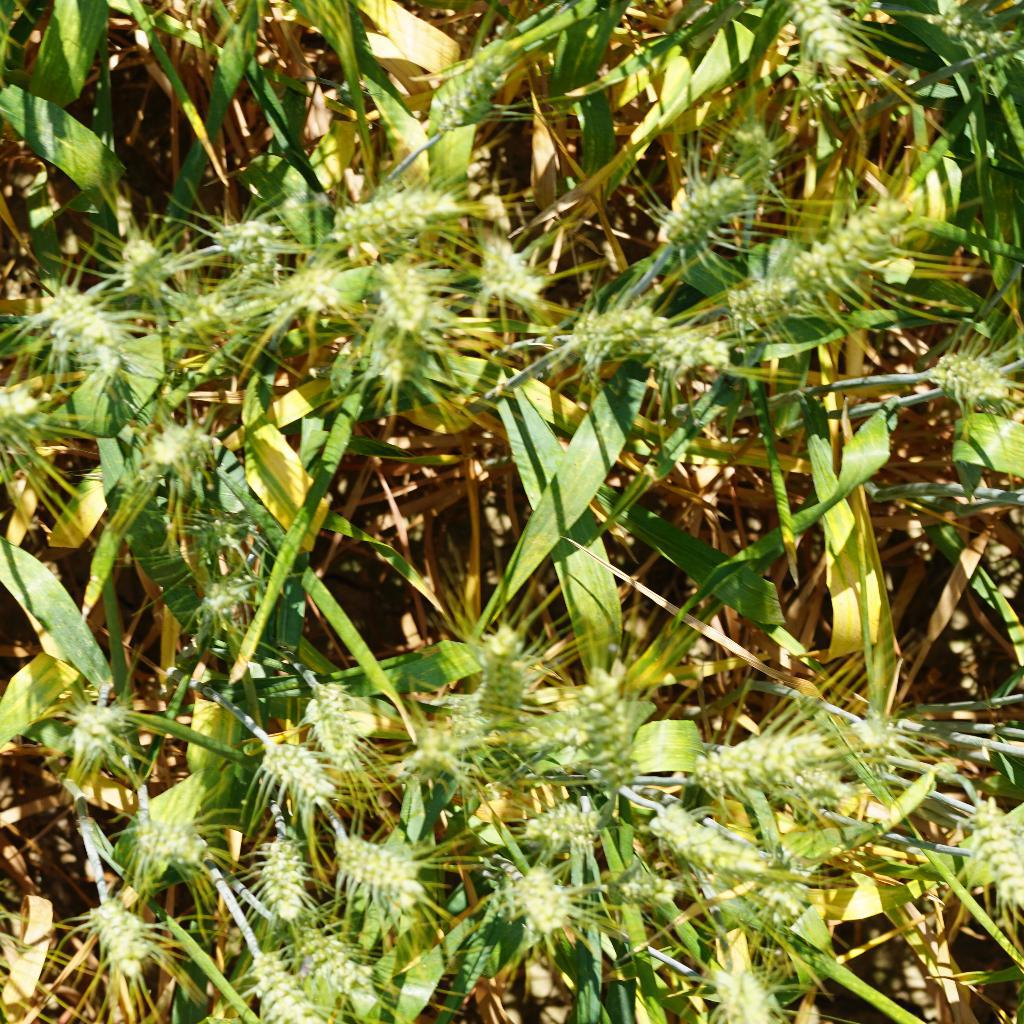0-0: (757, 195, 916, 281), (680, 713, 834, 793), (321, 823, 426, 922), (309, 180, 463, 247), (574, 665, 645, 799), (32, 279, 134, 372), (649, 798, 762, 881), (654, 157, 747, 253), (423, 47, 512, 144), (444, 230, 544, 313), (284, 912, 370, 1005), (624, 313, 727, 389), (920, 337, 1016, 418), (698, 115, 793, 195), (182, 497, 286, 570), (504, 858, 593, 941), (78, 885, 154, 982), (135, 414, 245, 481), (302, 675, 377, 772), (963, 798, 1024, 916), (245, 949, 340, 1024), (768, 0, 858, 79), (516, 781, 613, 852), (257, 724, 333, 814), (251, 829, 329, 914), (706, 952, 796, 1024), (475, 591, 524, 722), (406, 718, 485, 798), (359, 328, 438, 408), (108, 807, 200, 874), (193, 195, 283, 260), (362, 254, 443, 326), (564, 296, 658, 358), (836, 692, 912, 768), (243, 256, 342, 314), (919, 4, 1019, 60), (725, 264, 807, 331), (736, 871, 823, 933), (178, 559, 257, 626), (154, 286, 230, 352), (70, 692, 138, 765), (101, 224, 167, 295), (0, 374, 59, 445), (610, 859, 677, 920)
